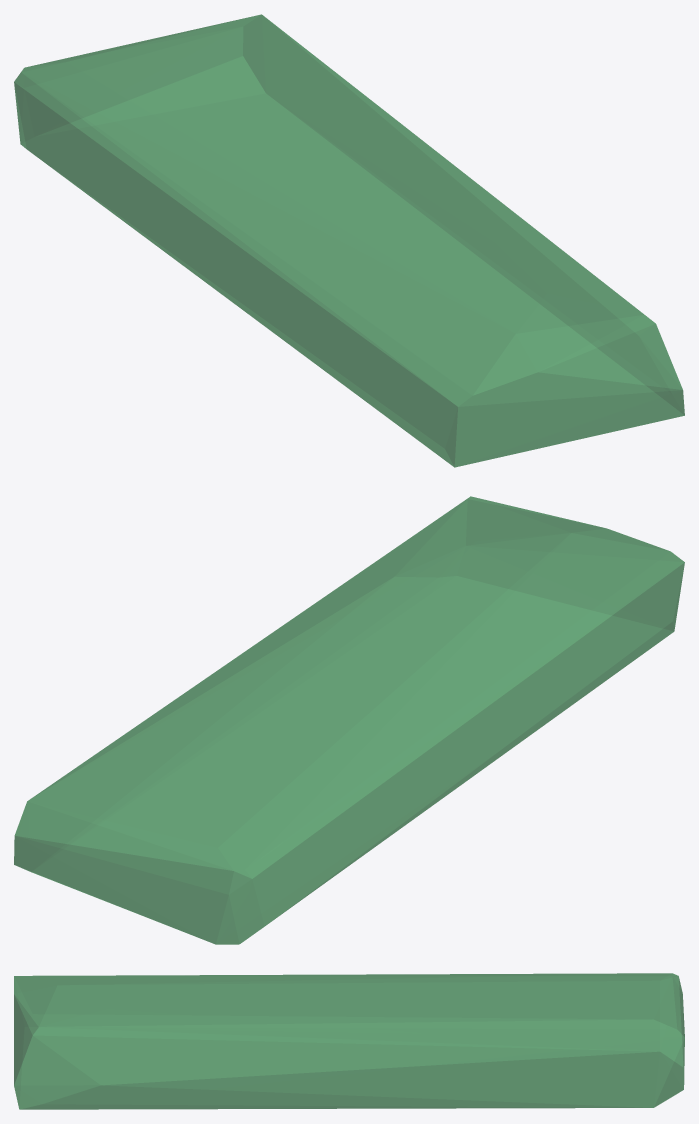
The picture shows the model from 3 angles, top to bottom: view 1: azimuth 30°, elevation 25°; view 2: azimuth 150°, elevation 25°; view 3: azimuth 270°, elevation 25°; orthographic projection. The views are drawn at different scales.
Visible parts, largest first — view 1: Shape_IndexedFaceSet.008_Shape_IndexedFaceSet.17984; view 2: Shape_IndexedFaceSet.008_Shape_IndexedFaceSet.17984; view 3: Shape_IndexedFaceSet.008_Shape_IndexedFaceSet.17984.
Part boxes in pixels (x1=…): Shape_IndexedFaceSet.008_Shape_IndexedFaceSet.17984: x1=14, y1=14, x2=684, y2=467; Shape_IndexedFaceSet.008_Shape_IndexedFaceSet.17984: x1=14, y1=496, x2=684, y2=944; Shape_IndexedFaceSet.008_Shape_IndexedFaceSet.17984: x1=14, y1=973, x2=684, y2=1109.
Bounding box in the file's own units: 0.2511 × 0.0988 × 0.8206.
